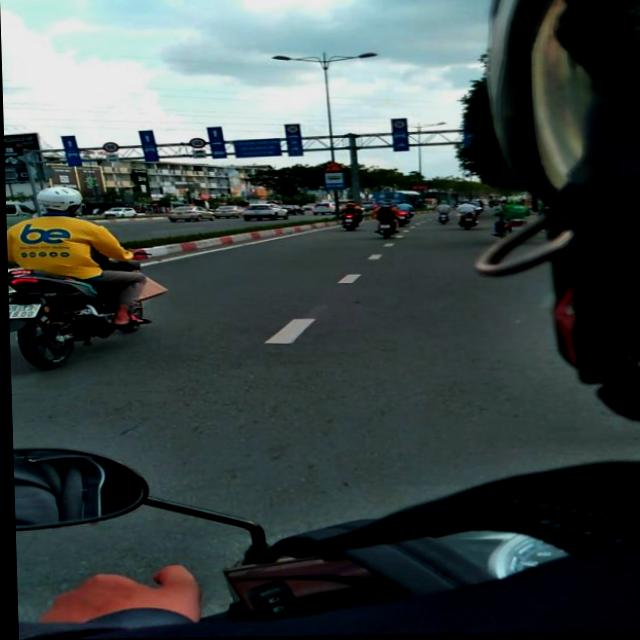Ben xe buyt: (322, 174, 344, 190)
Toc do toi da cho phep: (188, 138, 206, 150), (101, 142, 119, 152), (390, 120, 406, 130), (285, 126, 299, 134)
cho ngoat nguy hiem vong ben phai: (322, 162, 342, 172)
